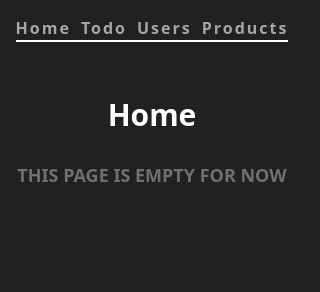
Scenario: Header navigation › Links logic › Todo link leads to Todo
Click the link "Todo" at (104, 28), box 81,16 -> 127,40
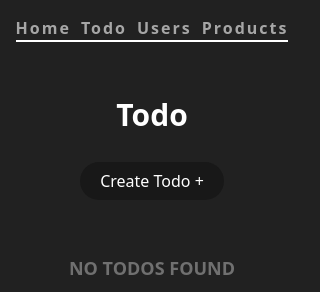
Expected: the heading with test id "page_title" reads "Todo", 116,94 -> 188,135
